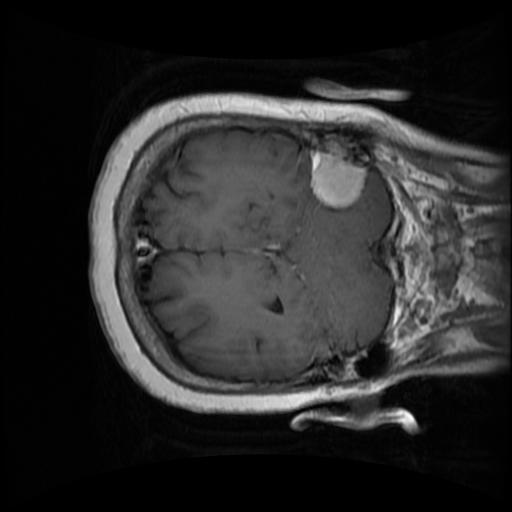meningioma: (309, 151, 367, 210)
